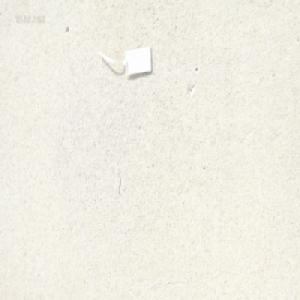LuggageTag: (100, 43, 153, 77)
